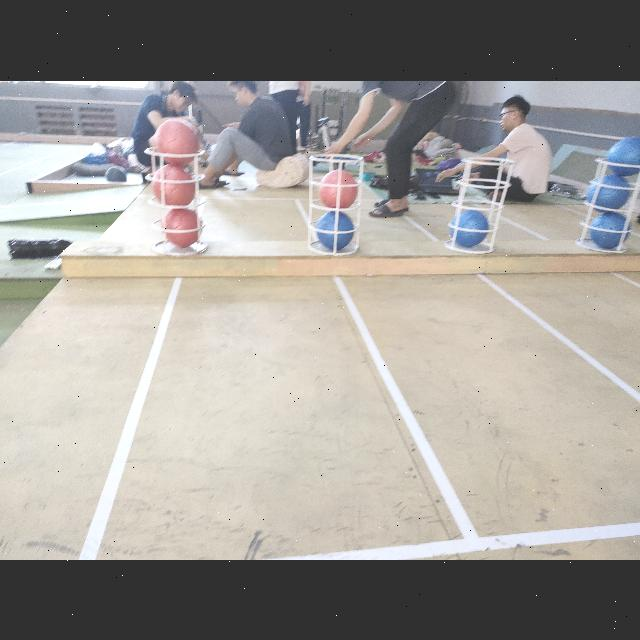B: (588, 175, 632, 211), (592, 211, 632, 249), (450, 209, 488, 247), (608, 134, 640, 178)
R: (156, 118, 200, 166), (152, 166, 194, 208), (318, 169, 359, 211), (162, 208, 202, 246)
